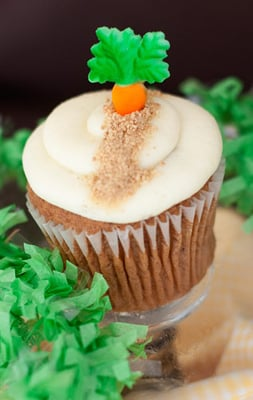sushi: (22, 79, 226, 321)
